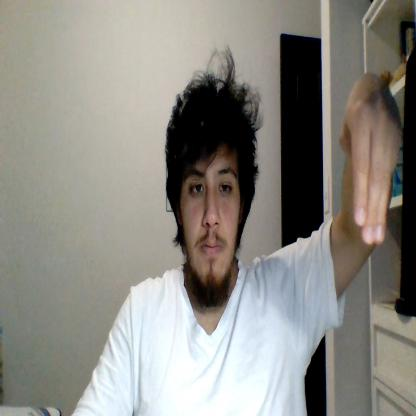M: (345, 72, 402, 248)
